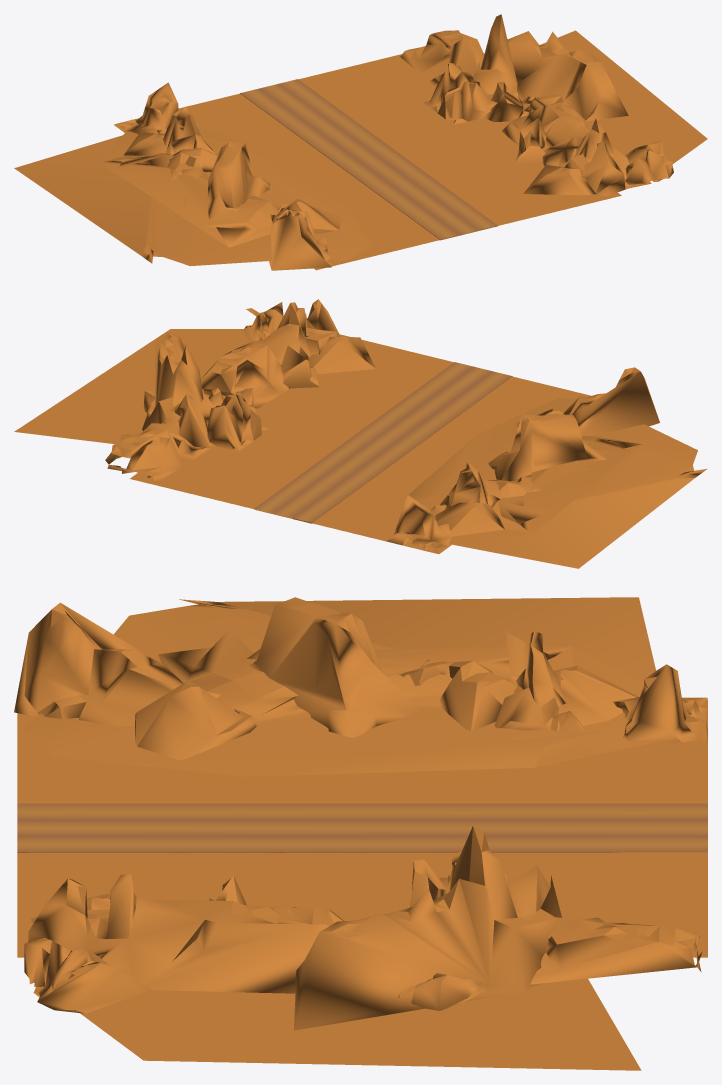
Rendered from dessertnew1.fbx.
3 views of the same model, one above another, from view 1: azimuth 30°, elevation 25°; view 2: azimuth 150°, elevation 25°; view 3: azimuth 270°, elevation 25° (orthographic). The views are drawn at different scales.
Parts seen in each view (by area): view 1: Plateau_desert_002.002, Cube; view 2: Plateau_desert_002.002, Cube; view 3: Plateau_desert_002.002, Cube.
Boxes of the visible parts, left/top/right/bottom form: Plateau_desert_002.002: left=14, top=14, right=707, bottom=270; Cube: left=116, top=54, right=621, bottom=270; Plateau_desert_002.002: left=14, top=299, right=707, bottom=568; Cube: left=130, top=334, right=591, bottom=553; Plateau_desert_002.002: left=14, top=597, right=707, bottom=1070; Cube: left=17, top=700, right=707, bottom=957.
Size of the model in its own units: 8762 by 1227 by 5426.
